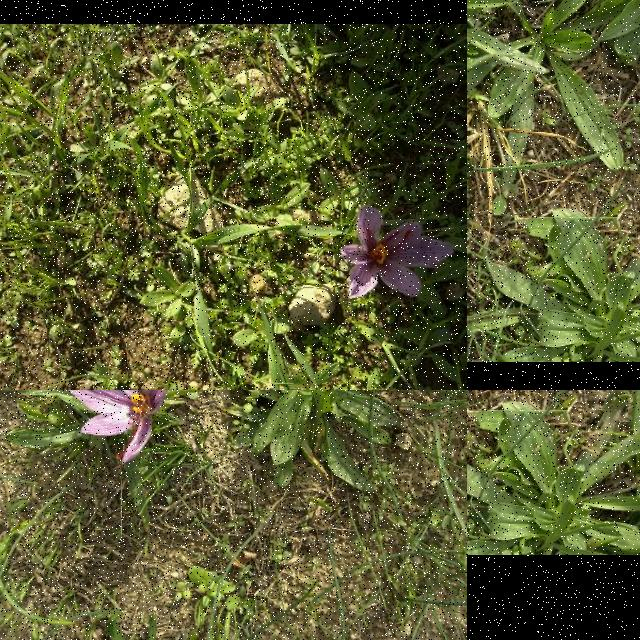flower: (339, 205, 456, 298), (63, 390, 181, 466)
